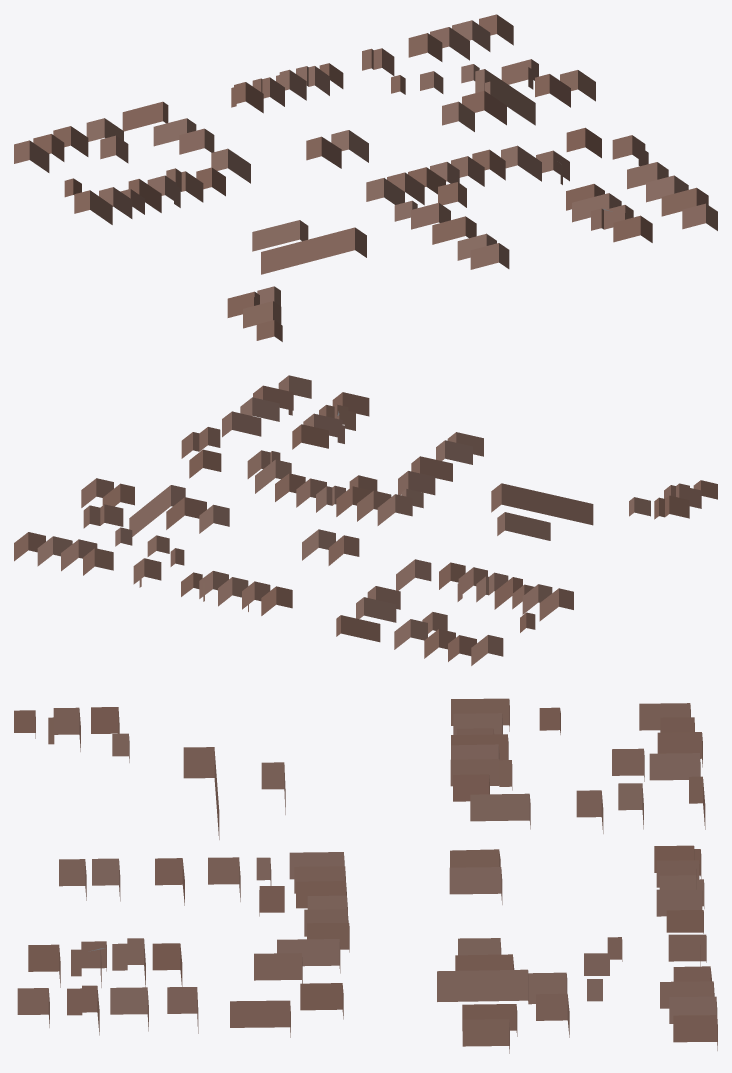
Rendered from c_1633_17822_buildings_residential.glb.
3 views of the same model, one above another, from view 1: azimuth 30°, elevation 25°; view 2: azimuth 150°, elevation 25°; view 3: azimuth 270°, elevation 25° (orthographic). The views are drawn at different scales.
Visible parts, largest first — view 1: geometry_0; view 2: geometry_0; view 3: geometry_0.
Part boxes in pixels (<box>): geometry_0: <box>14,14,717,341</box>; geometry_0: <box>14,375,717,665</box>; geometry_0: <box>14,698,717,1053</box>.
Size of the model in its own units: 255 by 12.53 by 227.
